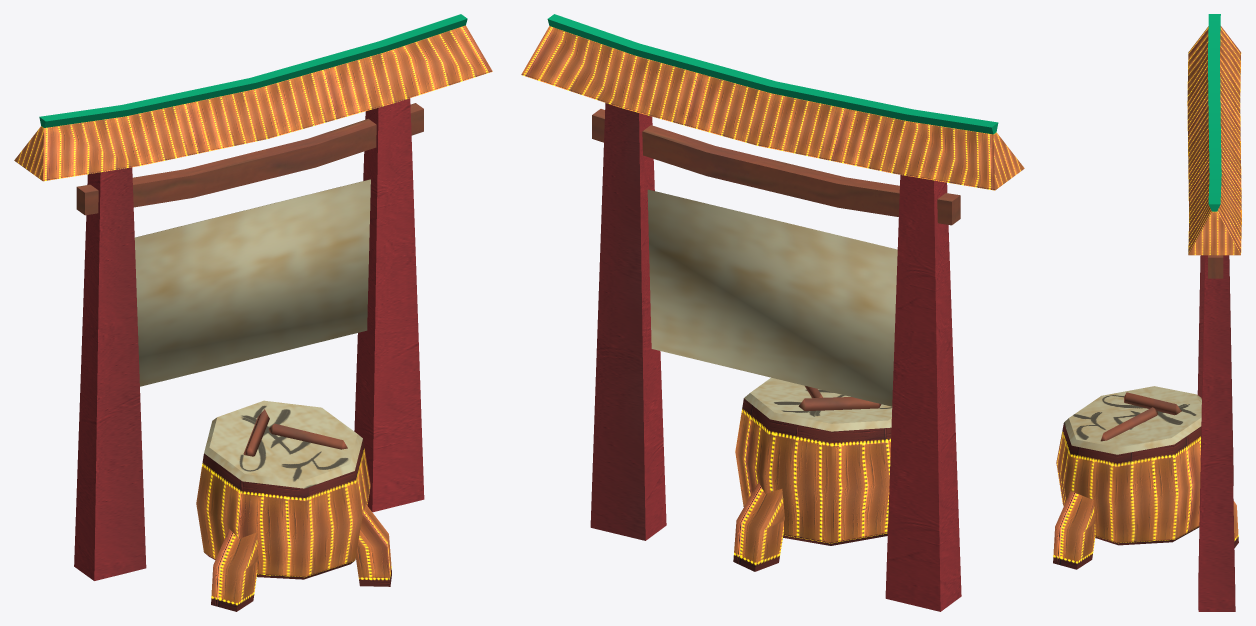
File: BosonPoapMachine_Art.fbx
3 views of the same model, side by side, from view 1: azimuth 30°, elevation 25°; view 2: azimuth 150°, elevation 25°; view 3: azimuth 270°, elevation 25° (orthographic). The views are drawn at different scales.
Visible parts, largest first — view 1: BosonPoapMachine_Art; view 2: BosonPoapMachine_Art; view 3: BosonPoapMachine_Art.
Part boxes in pixels (box(x1,y1,x2,y2)): BosonPoapMachine_Art: box(14, 14, 492, 611); BosonPoapMachine_Art: box(521, 14, 1024, 611); BosonPoapMachine_Art: box(1053, 14, 1241, 611).
Size of the model in its own units: 5.2 by 5.16 by 2.04.
